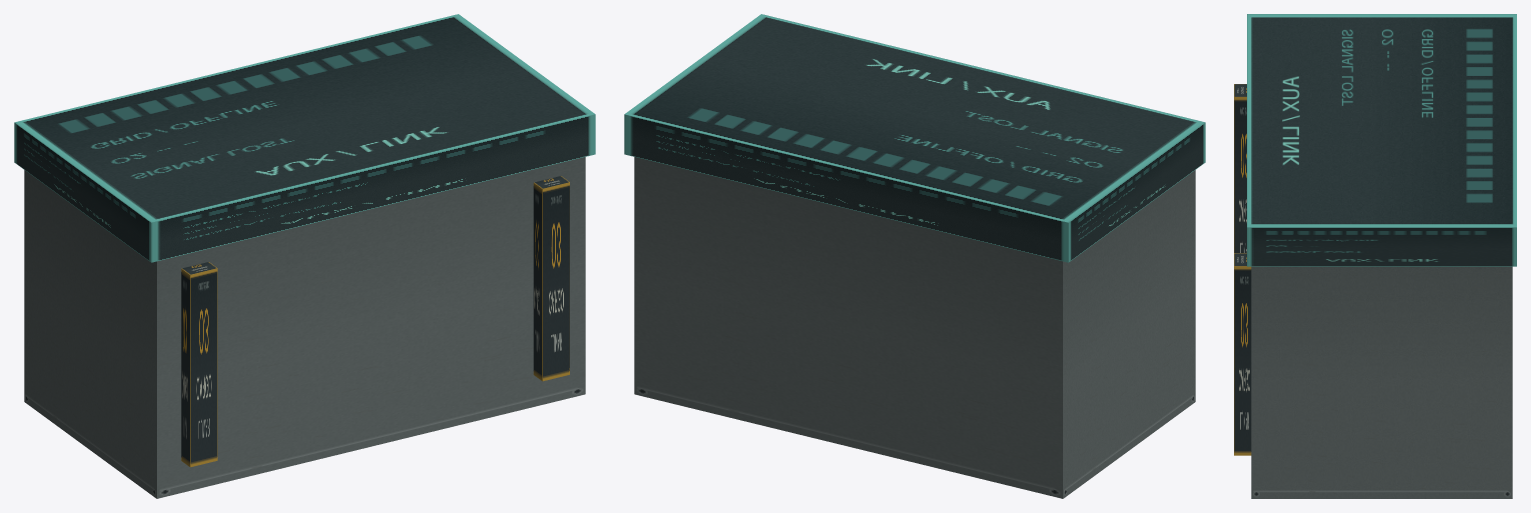
The model's file is cargo_container_LOD2.obj.
3 renders of one model, left to right at view 1: azimuth 30°, elevation 25°; view 2: azimuth 150°, elevation 25°; view 3: azimuth 270°, elevation 25°, orthographic.
Parts seen in each view (by area): view 1: L02_cargo_container_LOD2; view 2: L02_cargo_container_LOD2; view 3: L02_cargo_container_LOD2.
Part boxes in pixels (left/top/right/bottom): L02_cargo_container_LOD2: left=14, top=14, right=595, bottom=498; L02_cargo_container_LOD2: left=624, top=14, right=1205, bottom=498; L02_cargo_container_LOD2: left=1234, top=14, right=1516, bottom=498.
Bounding box in the file's own units: 2.9 × 1.75 × 1.62.
1 material, 1 textured.
